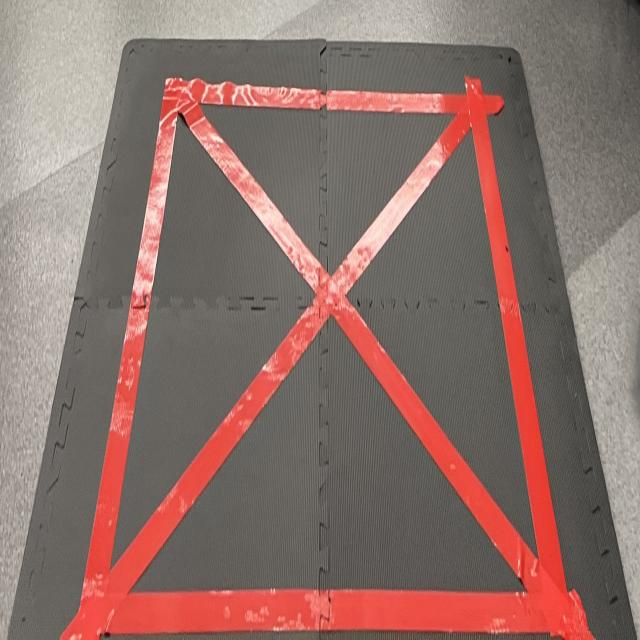landingPads: (12, 38, 638, 640)
